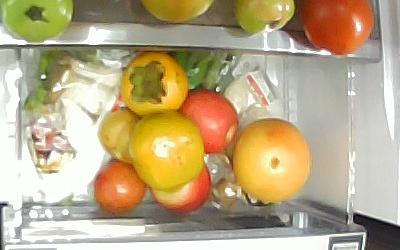apple: (179, 88, 237, 155), (152, 159, 210, 214)
grapefruit: (232, 119, 312, 203)
persimmon: (129, 113, 203, 188), (120, 52, 188, 116)
prune: (92, 161, 148, 215), (96, 108, 138, 162)
